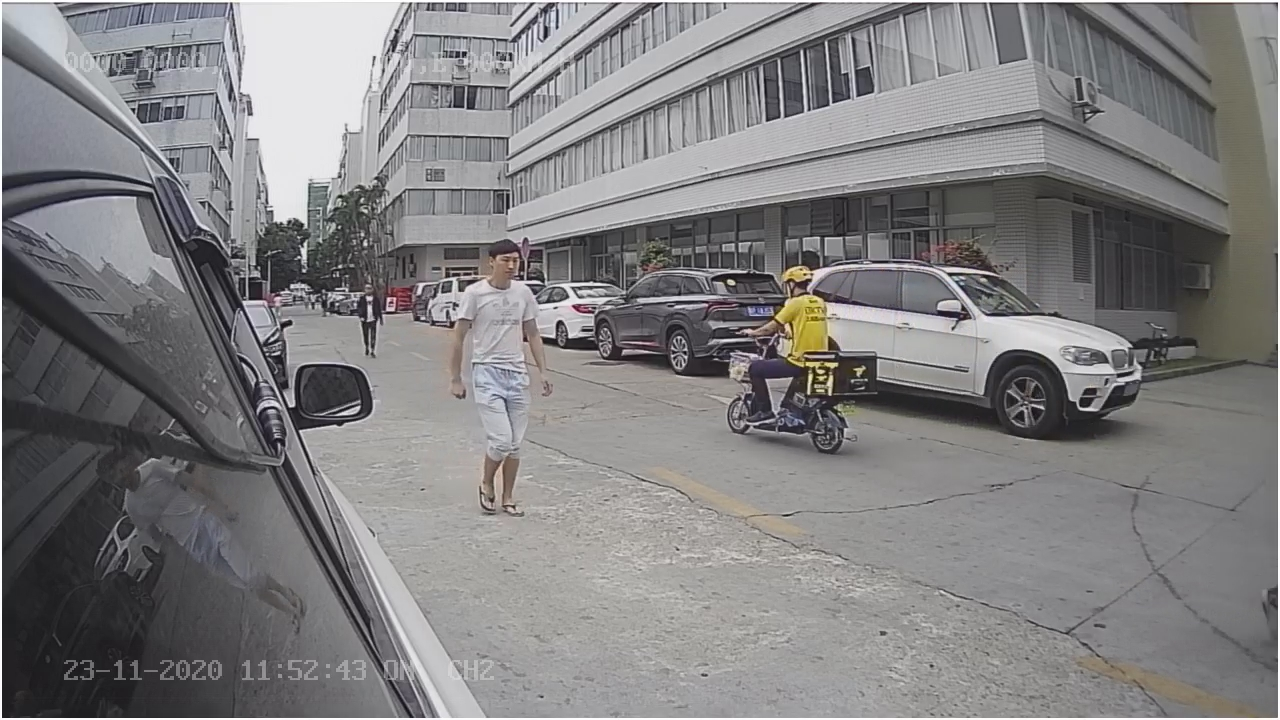person: (456, 238, 544, 515), (749, 263, 834, 332)
